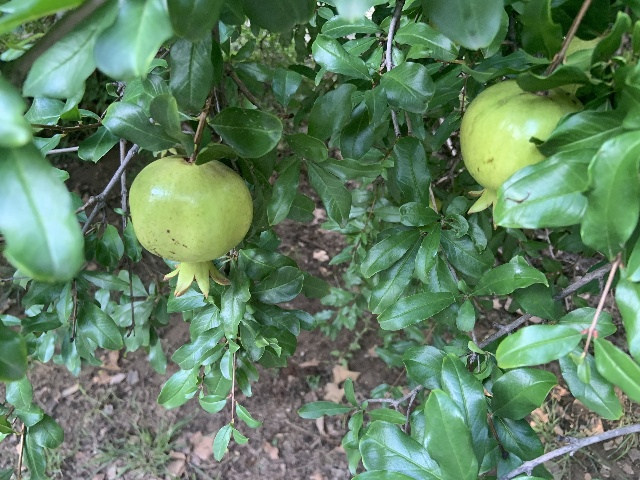mid-growth: (458, 79, 583, 230), (128, 154, 254, 298)
